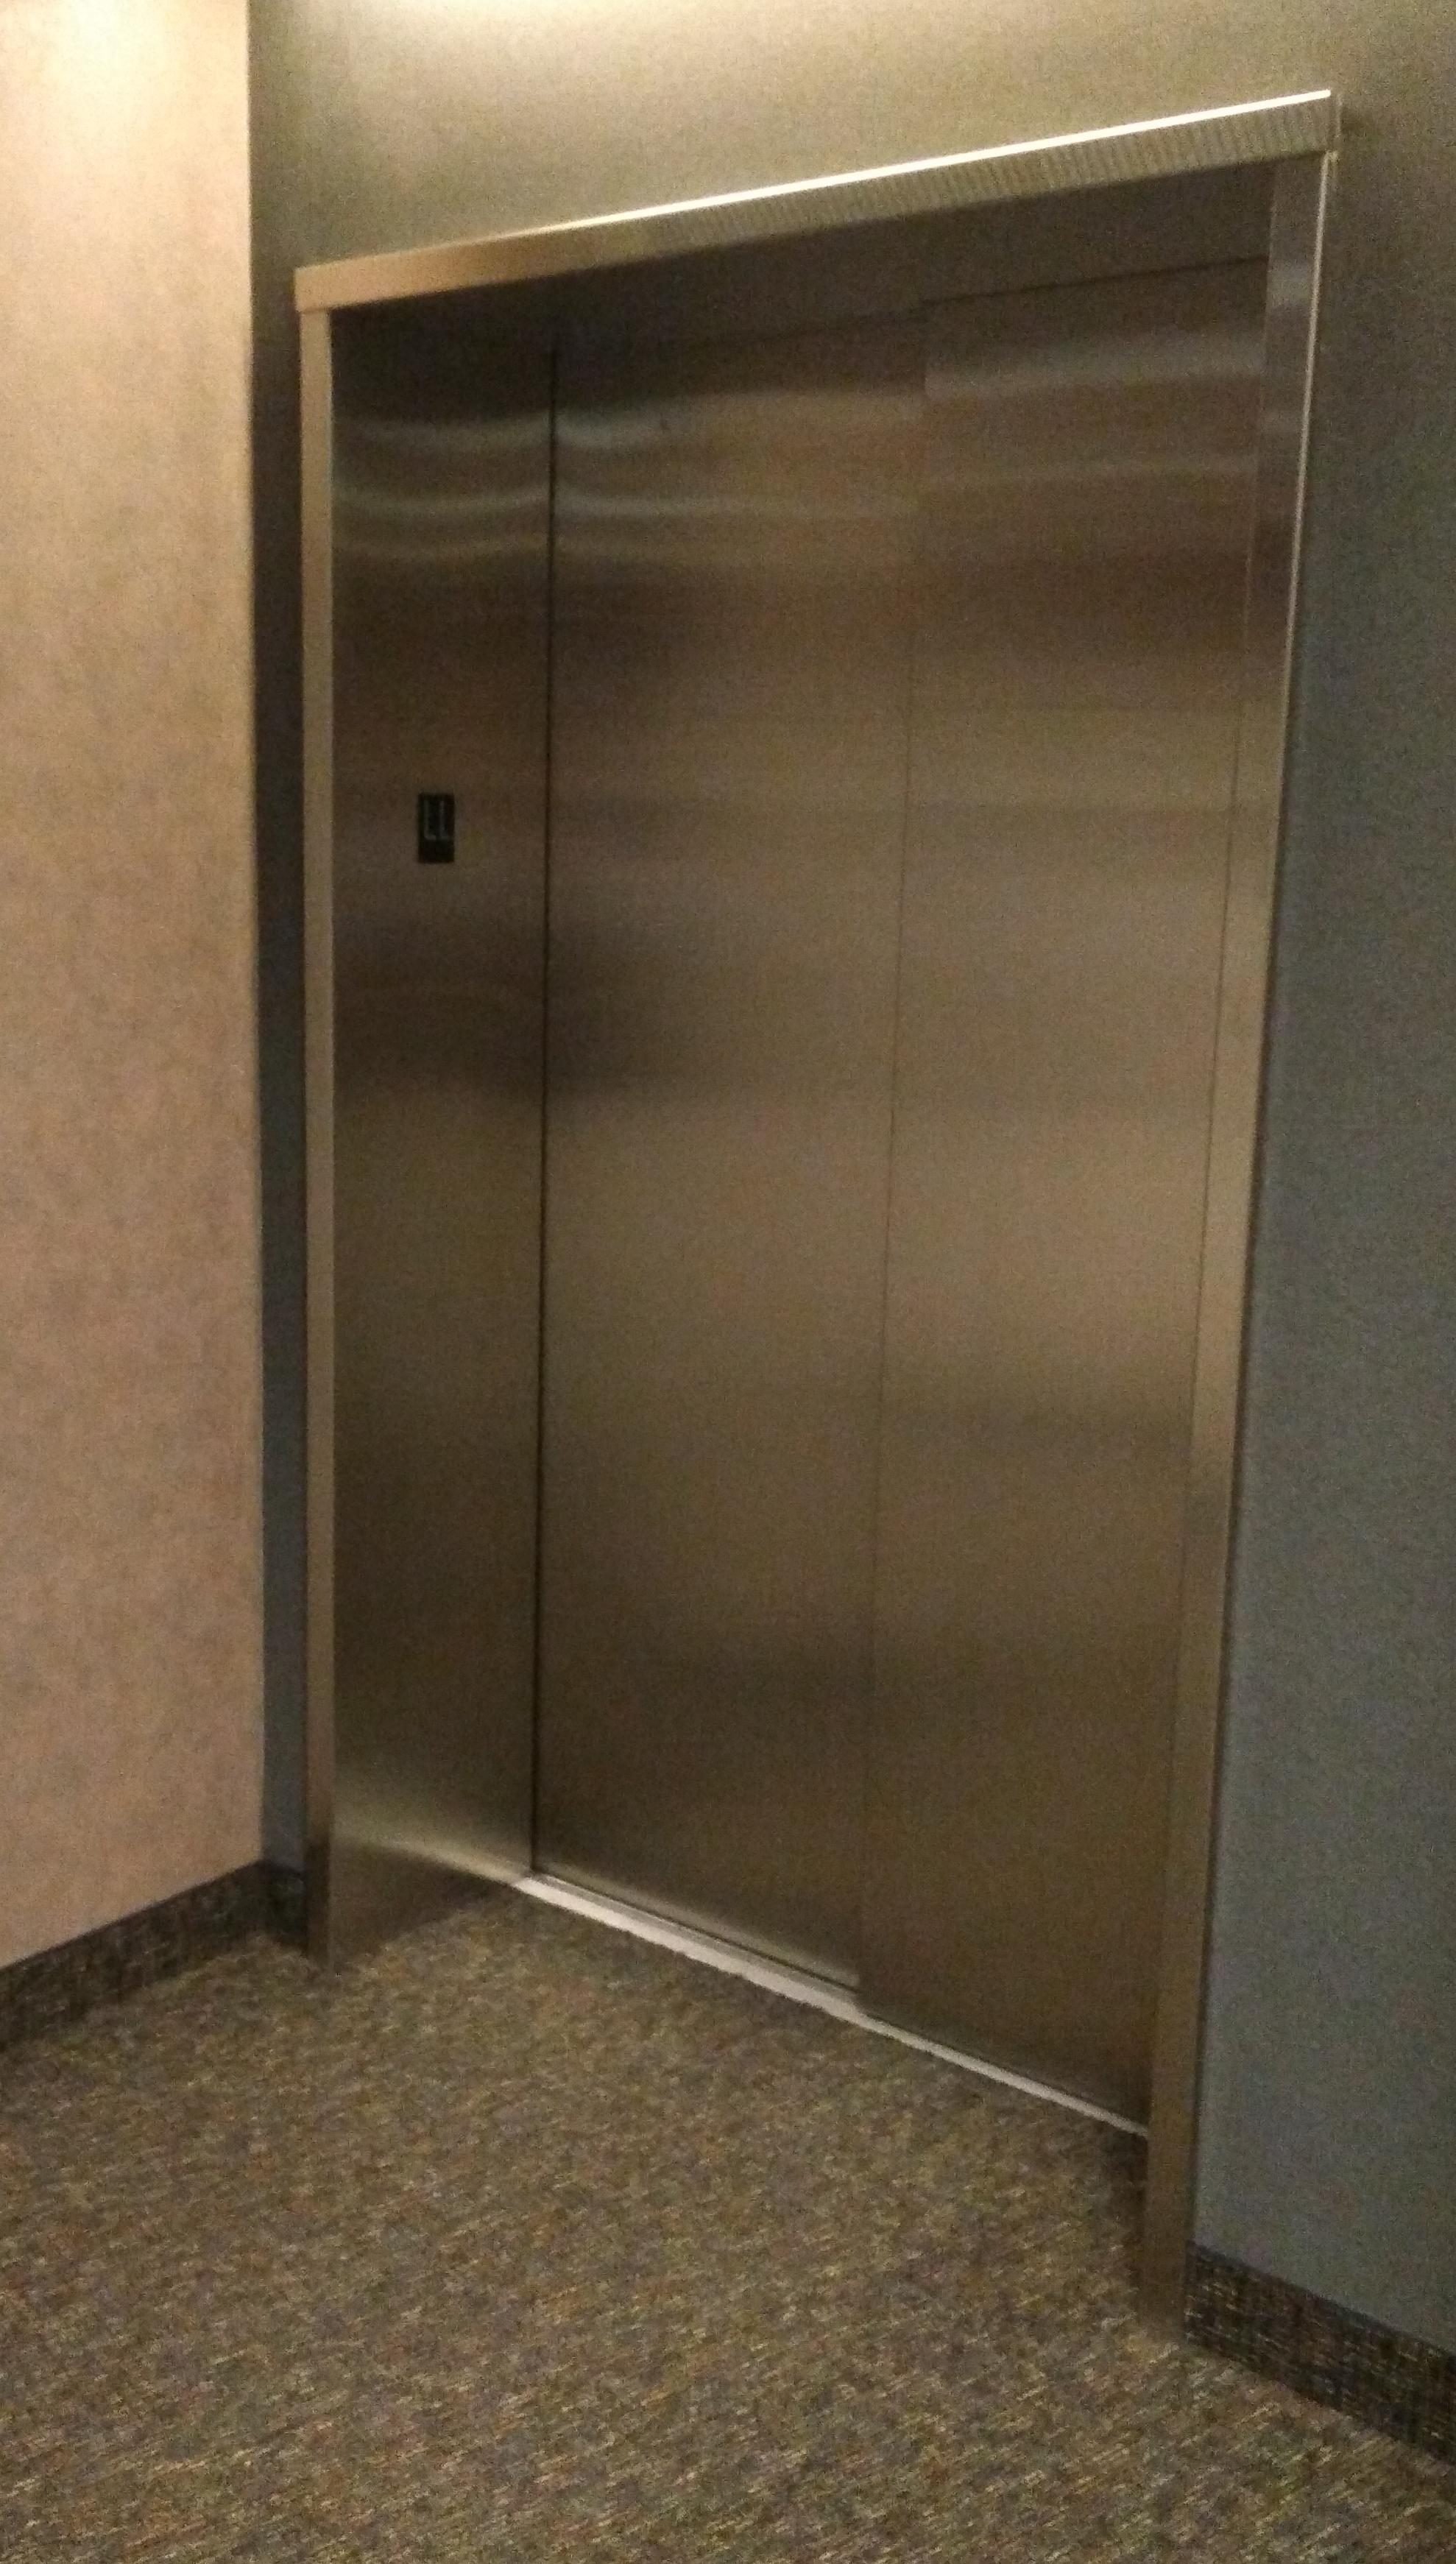door: (283, 95, 1335, 2314)
